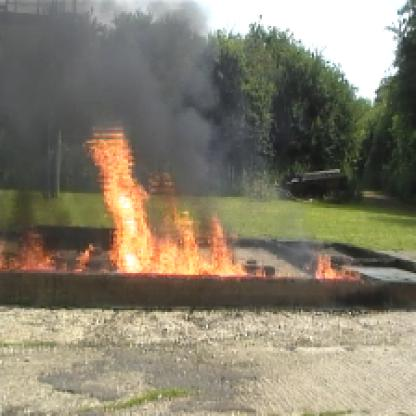Fire: (80, 122, 265, 278), (2, 225, 67, 271), (306, 244, 366, 280)
Smoke: (2, 2, 171, 121)
